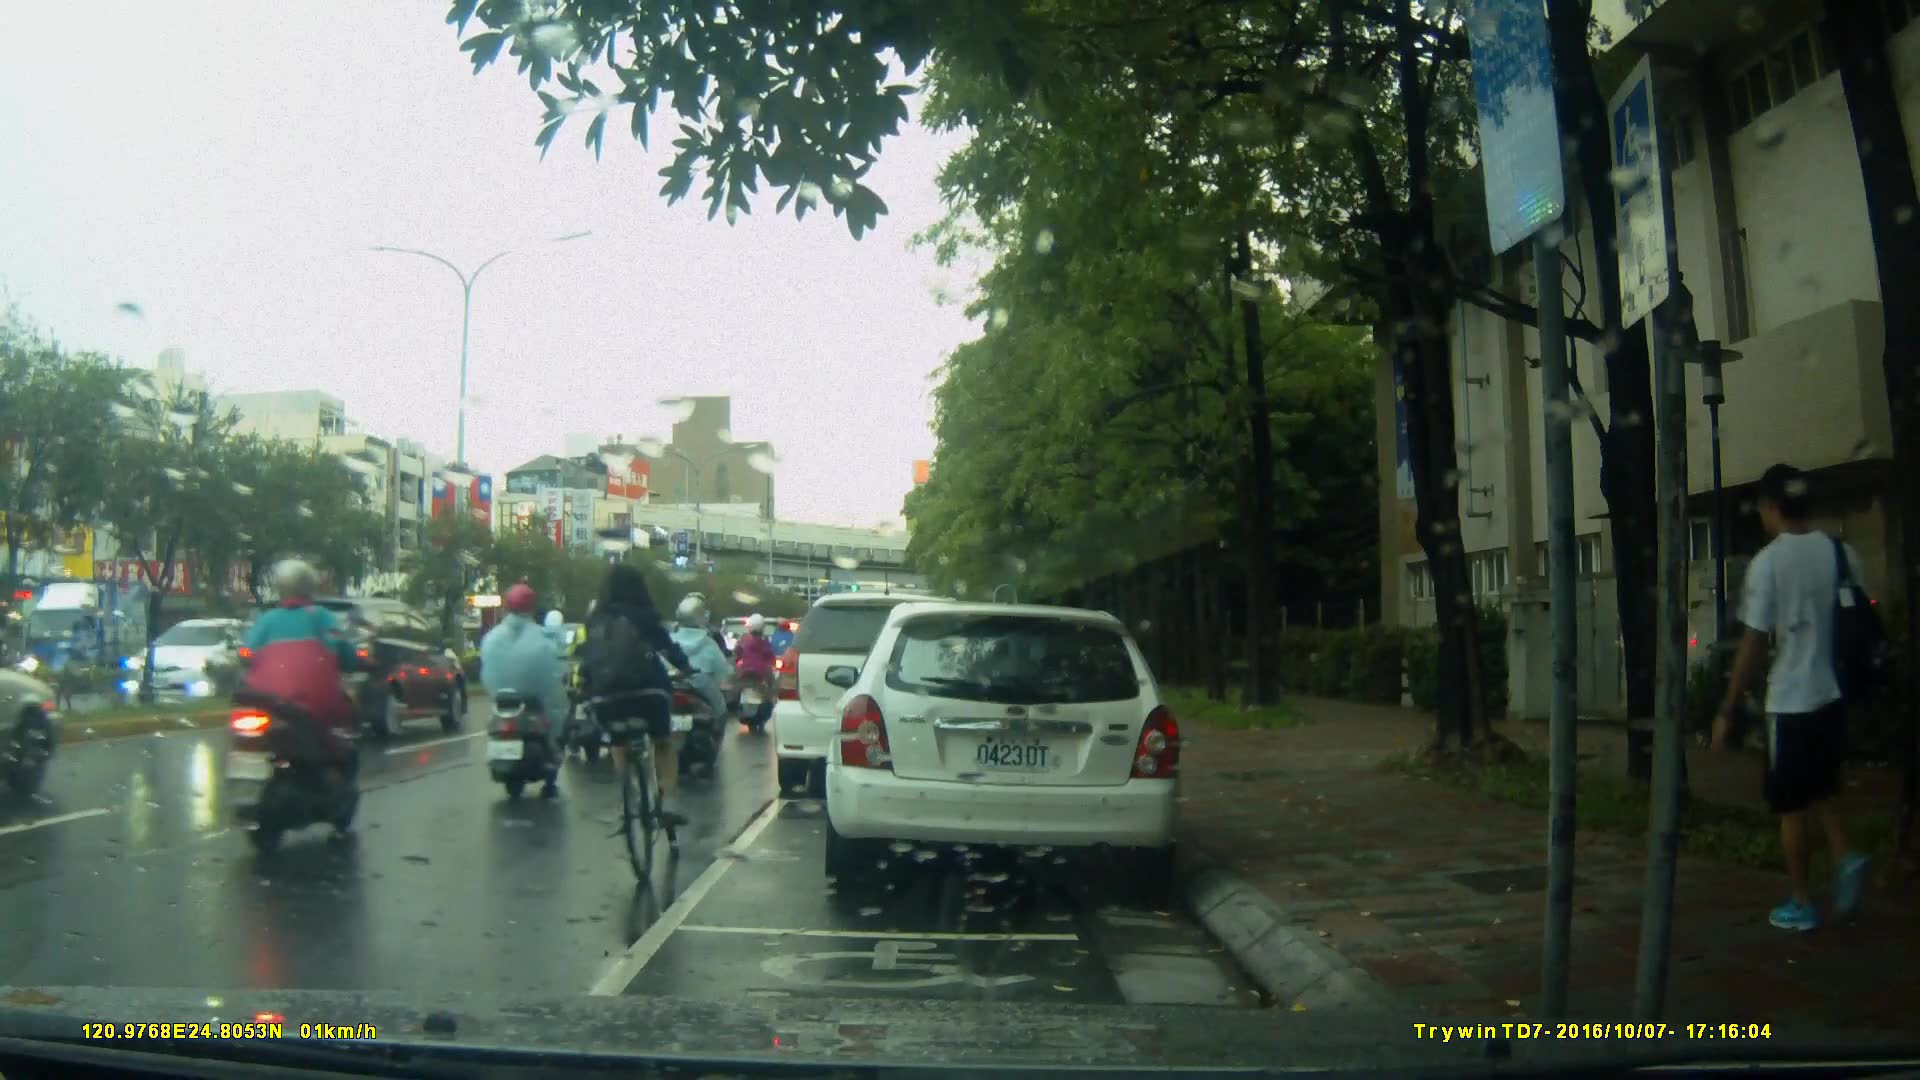pedestrian: (1737, 471, 1914, 960)
rider: (216, 560, 362, 854), (586, 555, 690, 872), (474, 585, 577, 807), (657, 595, 729, 765), (571, 598, 639, 769), (666, 591, 736, 756), (532, 612, 595, 740), (731, 620, 782, 739), (759, 613, 804, 688)
vehicle: (822, 604, 1188, 883), (774, 595, 995, 802), (228, 595, 473, 744), (20, 576, 161, 697)
